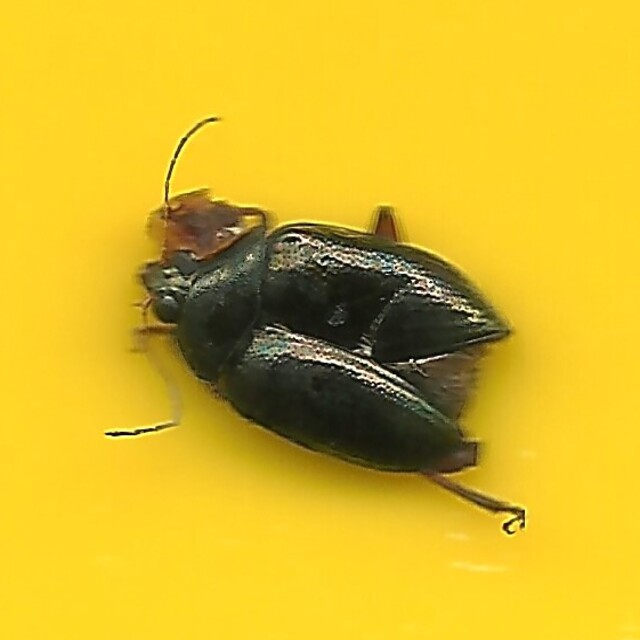Coleoptera: (114, 117, 526, 523)
